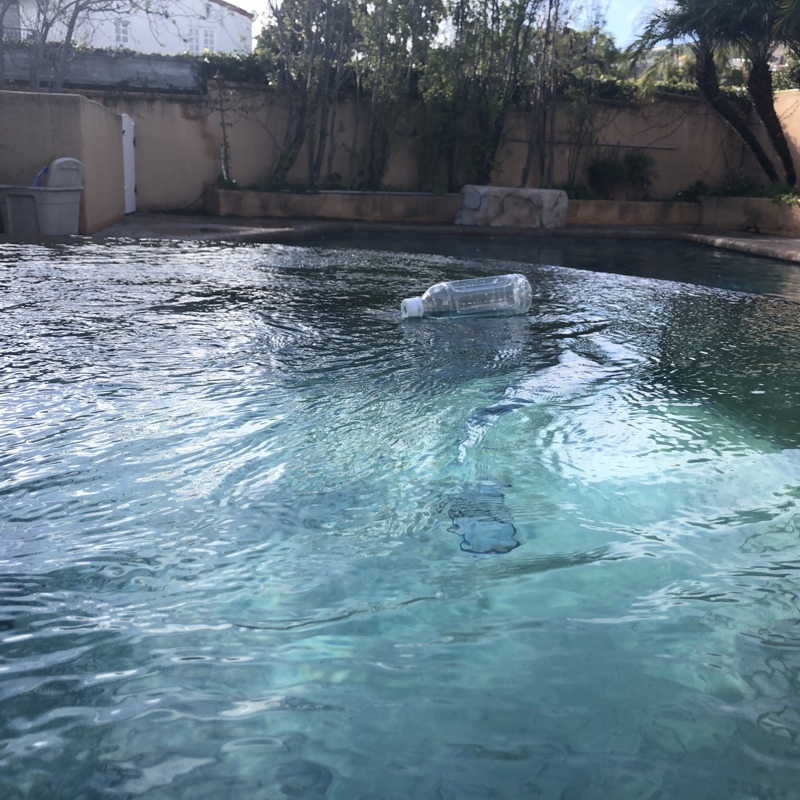Plastic Bottle: (397, 268, 534, 324)
